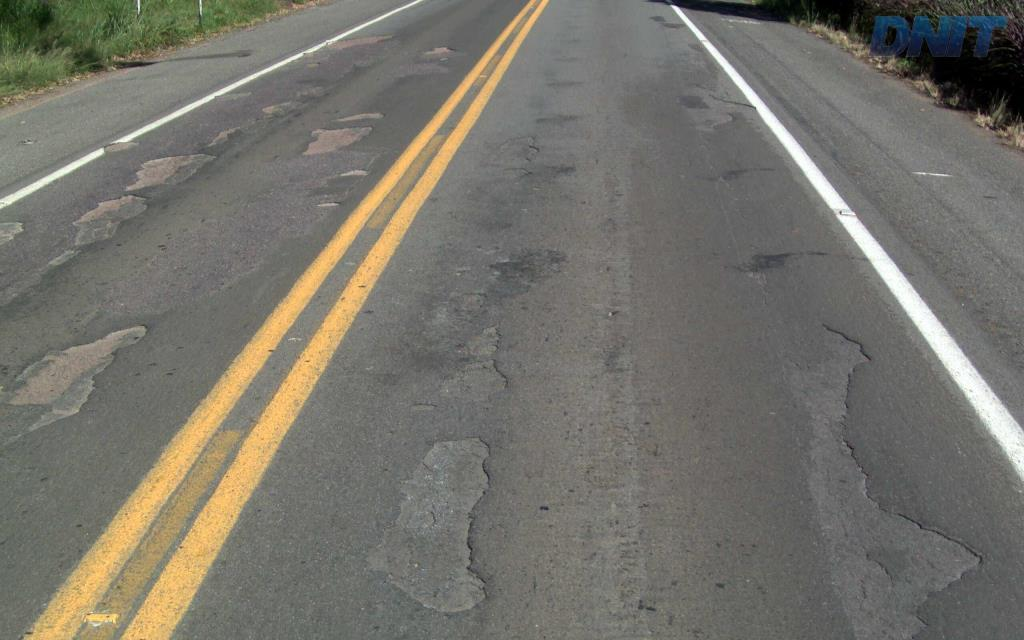pothole: (768, 313, 999, 638), (364, 430, 508, 621), (431, 356, 513, 405), (404, 398, 443, 416)
